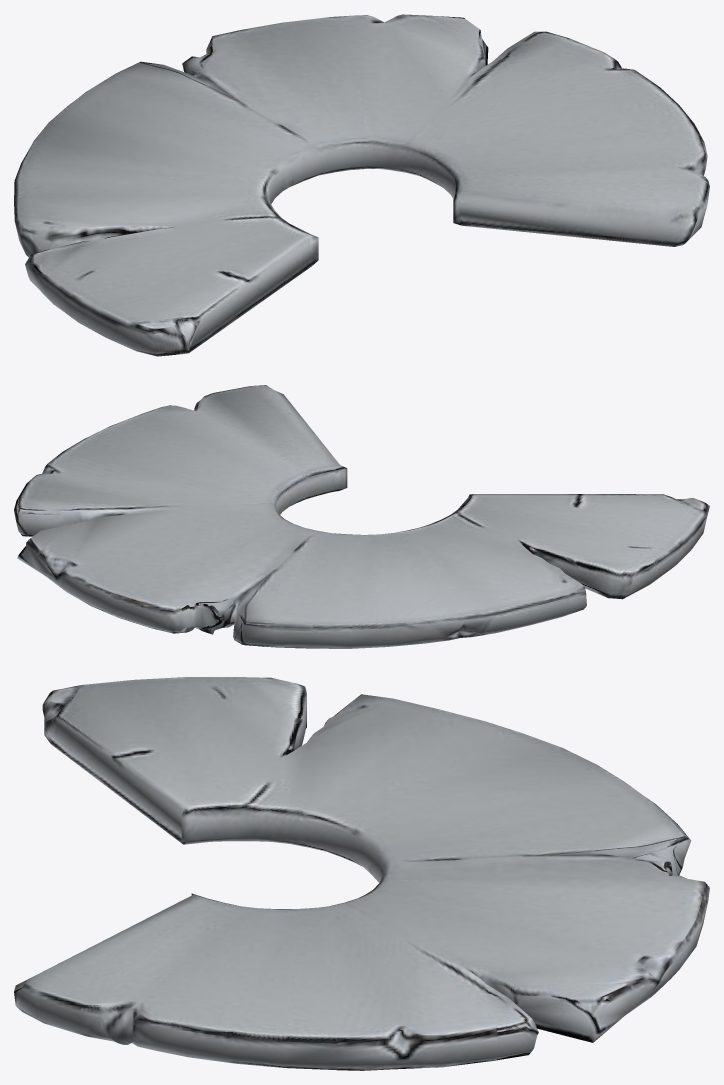
Rendered from 02 junk.glb.
3 renders of one model, top to bottom at view 1: azimuth 30°, elevation 25°; view 2: azimuth 150°, elevation 25°; view 3: azimuth 270°, elevation 25°, orthographic. The views are drawn at different scales.
Visible parts, largest first — view 1: tripo_node_0cabcfa5-8e44-4df1-a259-cacd23b3bddb; view 2: tripo_node_0cabcfa5-8e44-4df1-a259-cacd23b3bddb; view 3: tripo_node_0cabcfa5-8e44-4df1-a259-cacd23b3bddb.
Part boxes in pixels (<box>): tripo_node_0cabcfa5-8e44-4df1-a259-cacd23b3bddb: <box>14,14,709,356</box>; tripo_node_0cabcfa5-8e44-4df1-a259-cacd23b3bddb: <box>14,385,709,648</box>; tripo_node_0cabcfa5-8e44-4df1-a259-cacd23b3bddb: <box>14,677,709,1070</box>.
Size of the model in its own units: 0.1916 by 0.00863 by 0.1541.
Materials: 1 (1 with a texture image).
